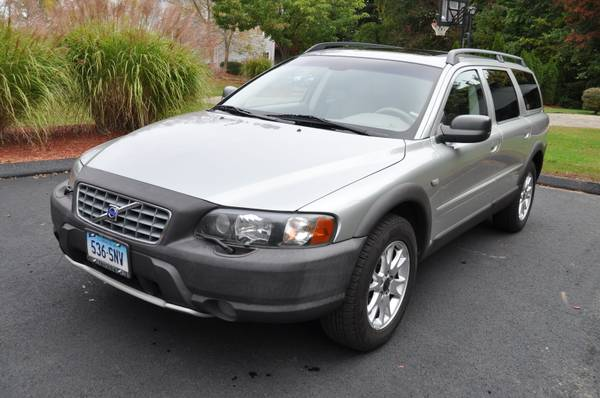volvo: (28, 23, 558, 357)
